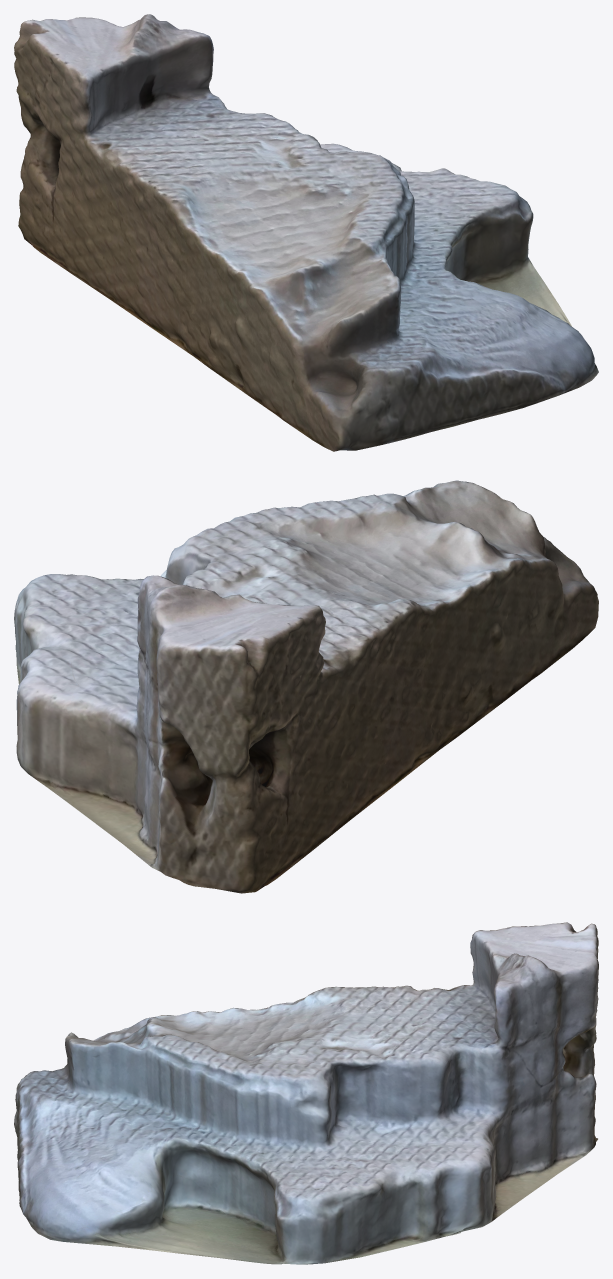
The picture shows the model from 3 angles, top to bottom: view 1: azimuth 30°, elevation 25°; view 2: azimuth 150°, elevation 25°; view 3: azimuth 270°, elevation 25°; orthographic projection. The views are drawn at different scales.
Bounding box in the file's own units: 0.7087 × 0.4188 × 1.09.
1 material, 1 textured.
